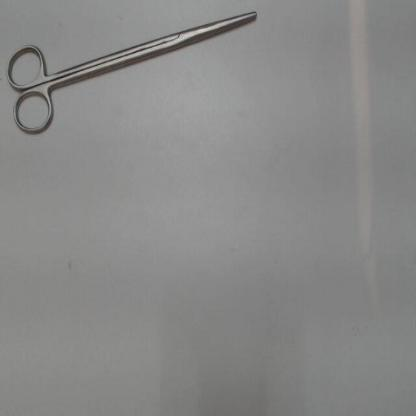9 Metzenbaum Scissors: (1, 8, 264, 140)
